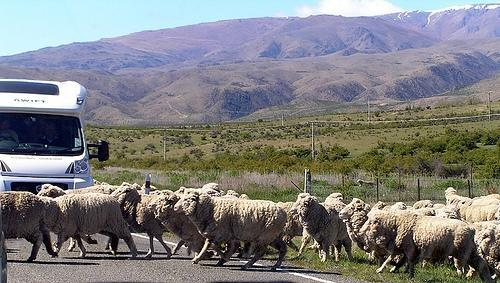bus: (0, 77, 109, 194)
truck: (3, 75, 94, 196)
